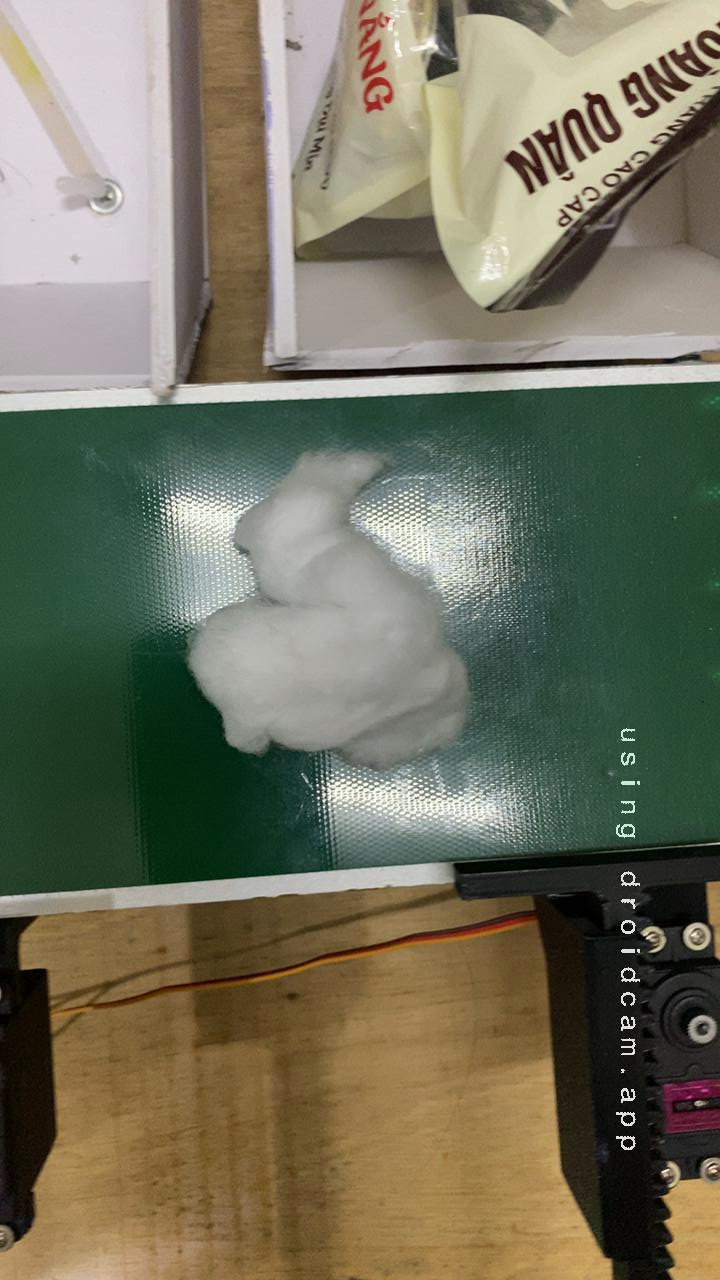cotton: (160, 421, 495, 794)
